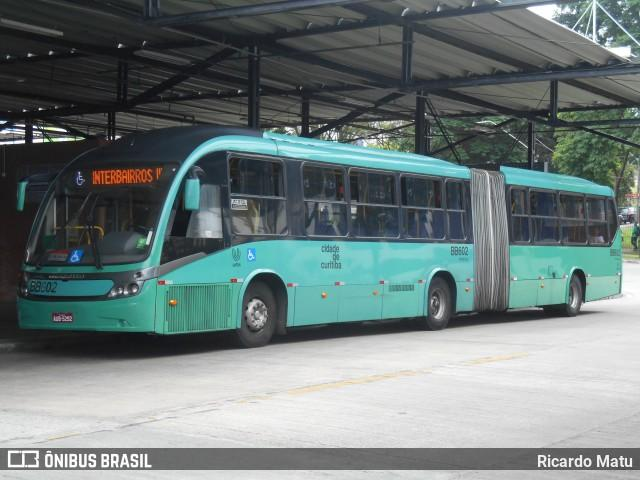INTERBAIRROS II: (87, 164, 165, 188)
